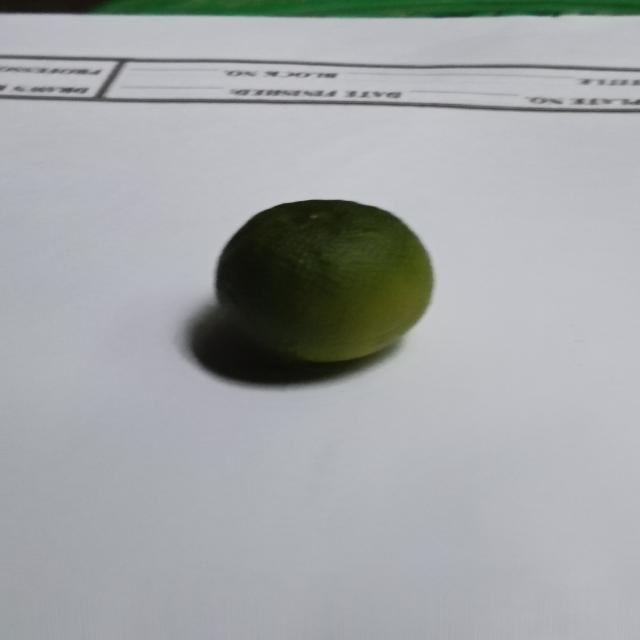heathy: (213, 195, 435, 364)
